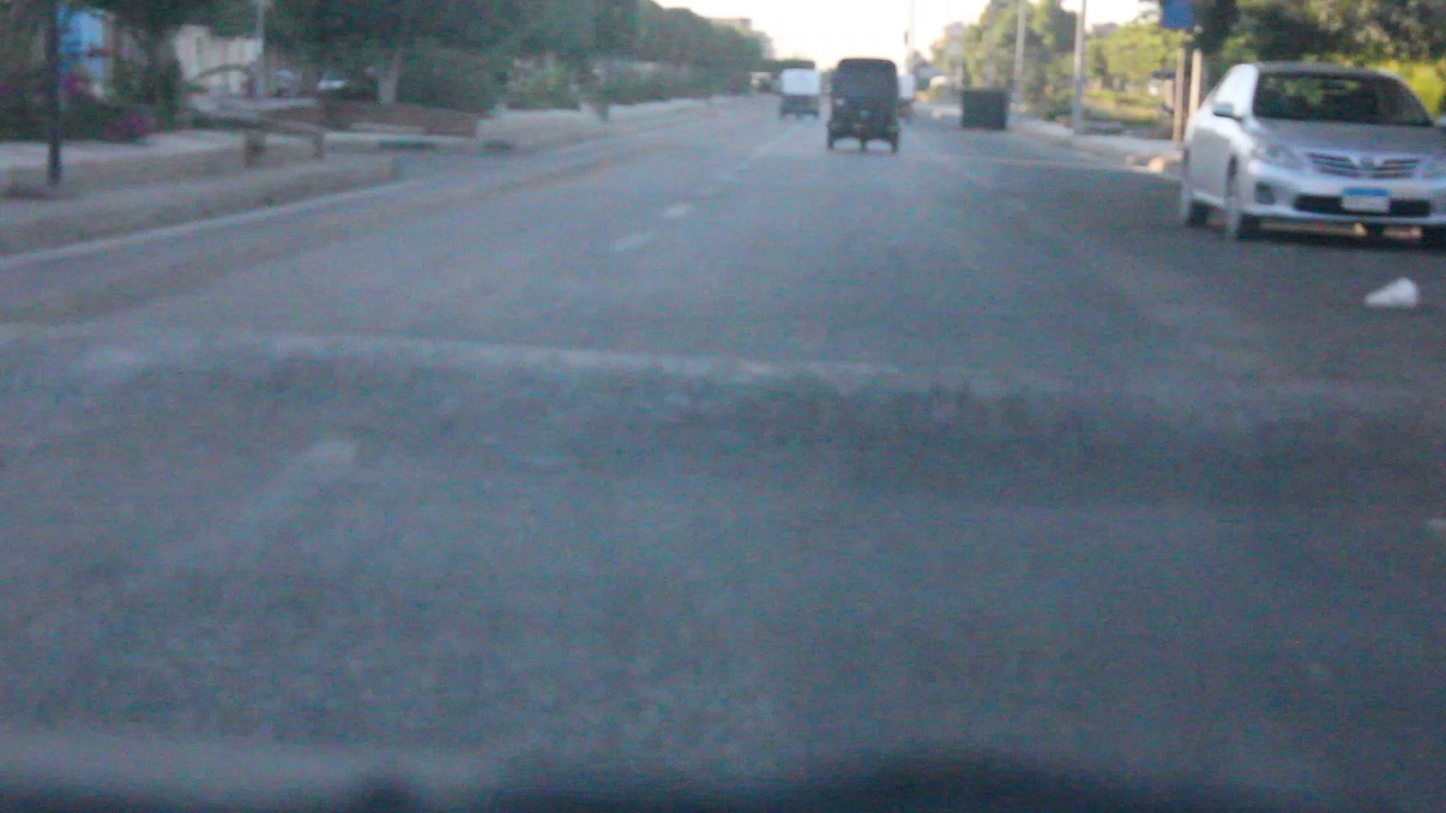Bump: (0, 333, 1425, 529)
